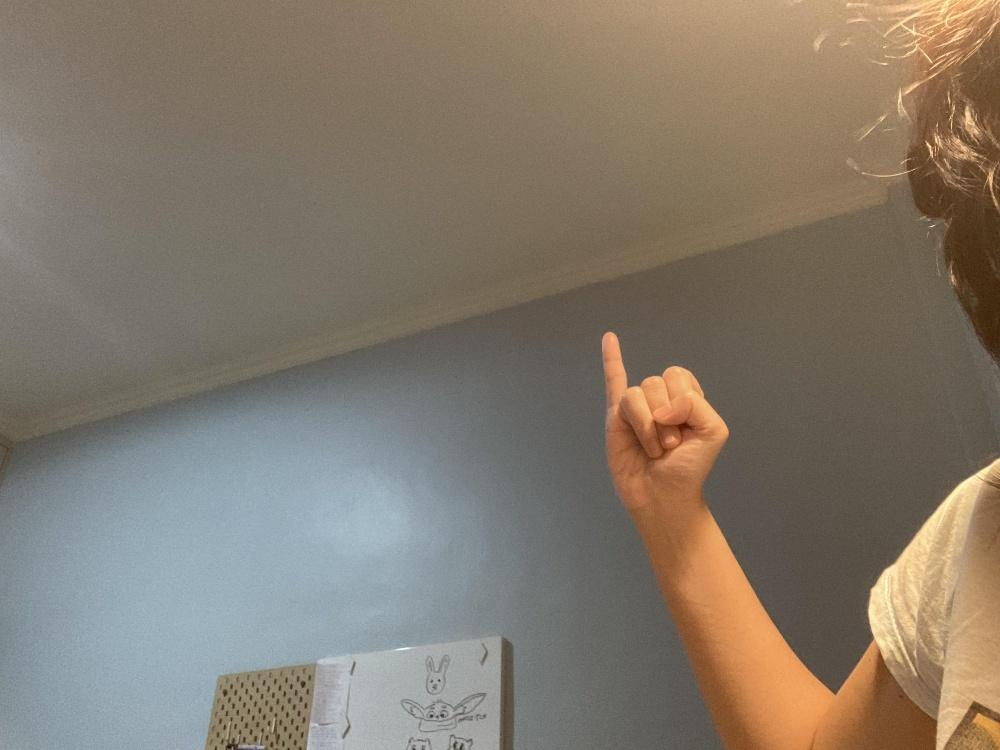i: (600, 330, 728, 510)
